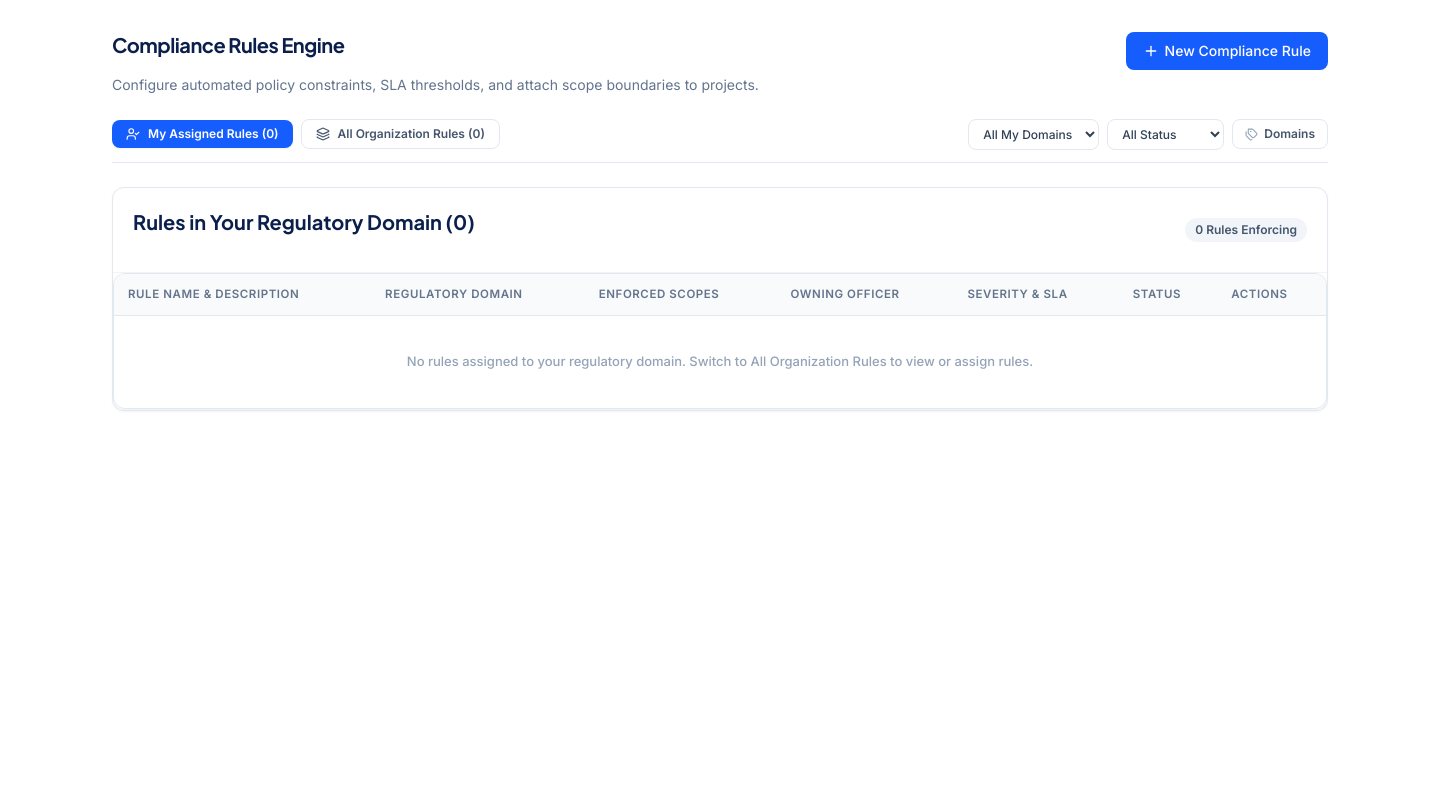
Step 3 UI & Workflow Fixes › Compliance Rules modal derives Domain Compliance Officer from selected category instead of listing all employees
Click the button "New Compliance Rule".
click(1227, 51)  # box x1=1126 y1=32 x2=1328 y2=70
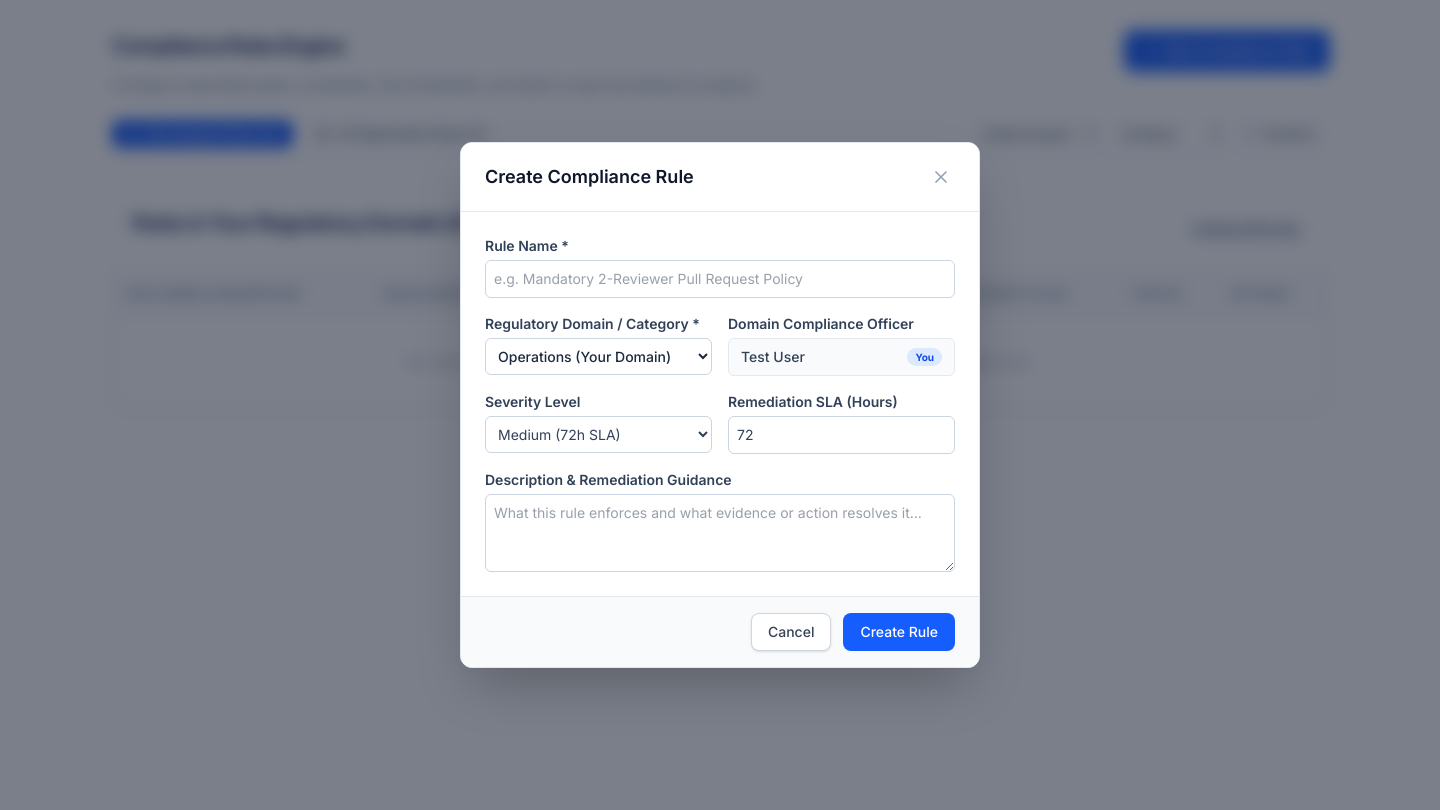
Expected: the text "Domain Compliance Officer" is shown, x1=728 y1=315 x2=914 y2=332
Expected: the text "Test User" is shown, x1=741 y1=347 x2=805 y2=367
